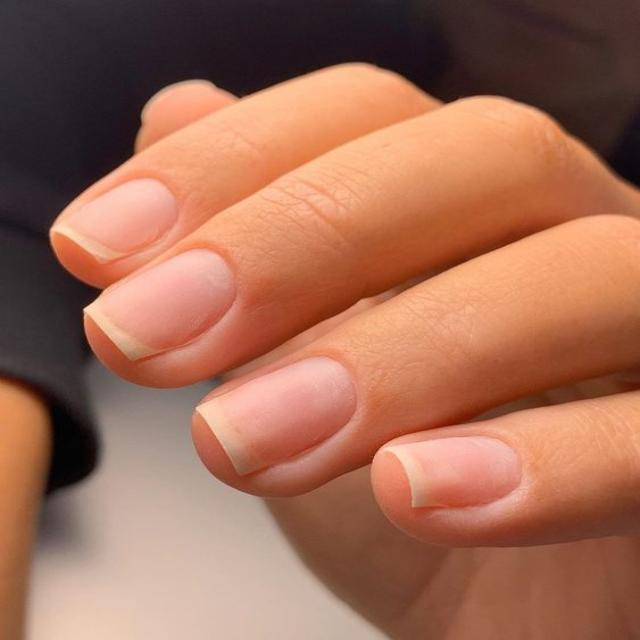Fingernail: (196, 355, 356, 477), (85, 248, 236, 362), (51, 178, 178, 263), (386, 436, 524, 508)
